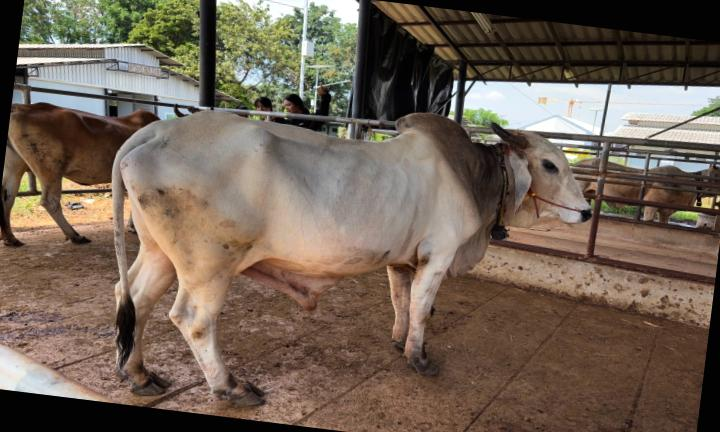Brahman: (112, 111, 590, 404)
